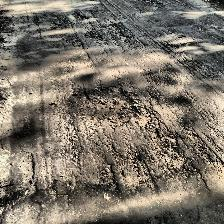pothole: (72, 84, 142, 125)
